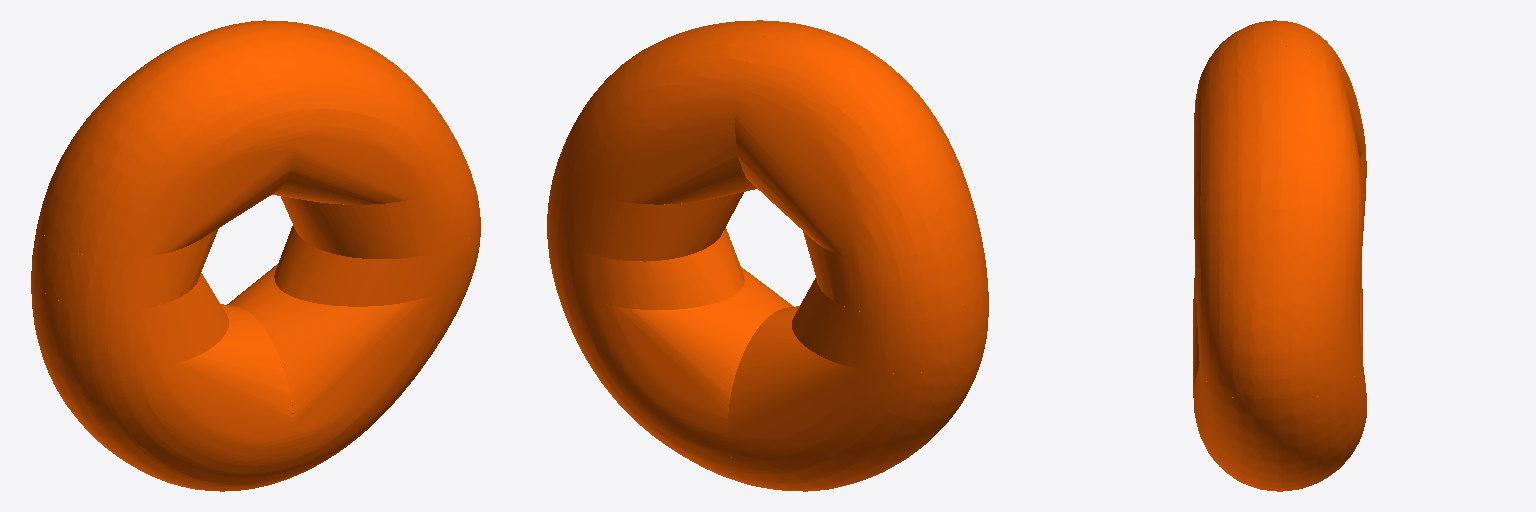
URDF robot description (Lifebuoy):
<?xml version="1.0" ?>
<robot name="Lifebuoy">
   <material name="obj_color">
      <color rgba="1.0 0.423529411765 0.0392156862745 1.0"/>
   </material>
   <link name="top">
      <inertial>
         <origin rpy="0.002117490916904275 0.002204480846428813 0.003830566229519998" xyz="-0.001568777580122191 -0.0003817619054385731 -0.000742319923935526"/>
         <mass value="1.360410370748329"/>
         <inertia ixx="0.002201886811052379" ixy="1.117344443654533e-05" ixz="1.50605212072531e-05" iyy="0.003830452874860182" iyz="7.819139943543239e-06" izz="0.002120198306940524"/>
      </inertial>
      <visual>
         <origin rpy="0 0 0" xyz="0 0 0"/>
         <geometry>
            <mesh filename="top_watertight_tiny.obj" scale="1 1 1"/>
         </geometry>
         <material name="obj_color"/>
      </visual>
      <collision>
         <origin rpy="0 0 0" xyz="0 0 0"/>
         <geometry>
            <mesh filename="top_watertight_tiny.obj" scale="1 1 1"/>
         </geometry>
      </collision>
   </link>
</robot>

--- Facts derived from the render (not from the file) ---
Views: 3 orthographic renders of the robot side by side, from view 1: azimuth 30°, elevation 25°; view 2: azimuth 150°, elevation 25°; view 3: azimuth 270°, elevation 25°.
Robot: Lifebuoy — 1 links, 0 joints (none); root link top; default pose: every joint at zero.
Links seen in each view (by area): view 1: top; view 2: top; view 3: top.
Link boxes in pixels (x1,y1,x2,y2): top: (31,20,480,491); top: (547,20,988,491); top: (1193,20,1366,491).
Bounding box of the posed robot: 0.1498 × 0.0563 × 0.1525 m (x, y, z).
1 mesh visuals loaded from 1 distinct referenced files (1 OBJ).